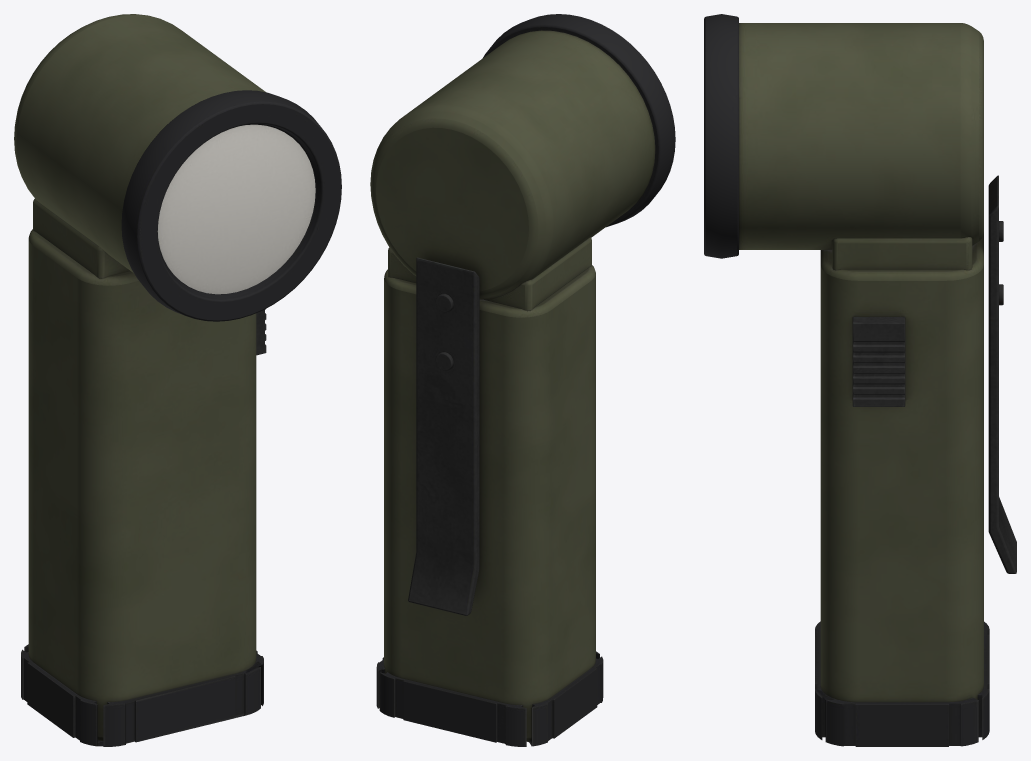
File: flashlight.glb
The picture shows the model from 3 angles, left to right: view 1: azimuth 30°, elevation 25°; view 2: azimuth 150°, elevation 25°; view 3: azimuth 270°, elevation 25°; orthographic projection. The views are drawn at different scales.
Parts seen in each view (by area): view 1: body; view 2: body; view 3: body.
Part boxes in pixels (x1,y1,x2,y2): body: [14, 14, 341, 746]; body: [370, 14, 675, 746]; body: [704, 14, 1016, 746].
Size of the model in its own units: 0.042 by 0.128 by 0.0537.
2 materials, 2 textured.
